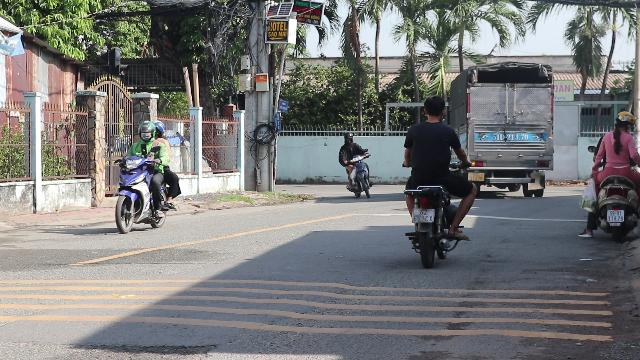helmet: (612, 109, 634, 130), (138, 119, 154, 139), (153, 119, 165, 137)
licenseplate: (412, 208, 432, 222), (608, 210, 624, 222)
motorcyclist: (398, 94, 476, 266), (579, 108, 639, 240), (112, 118, 180, 233)
nohelmet: (421, 96, 447, 120)
